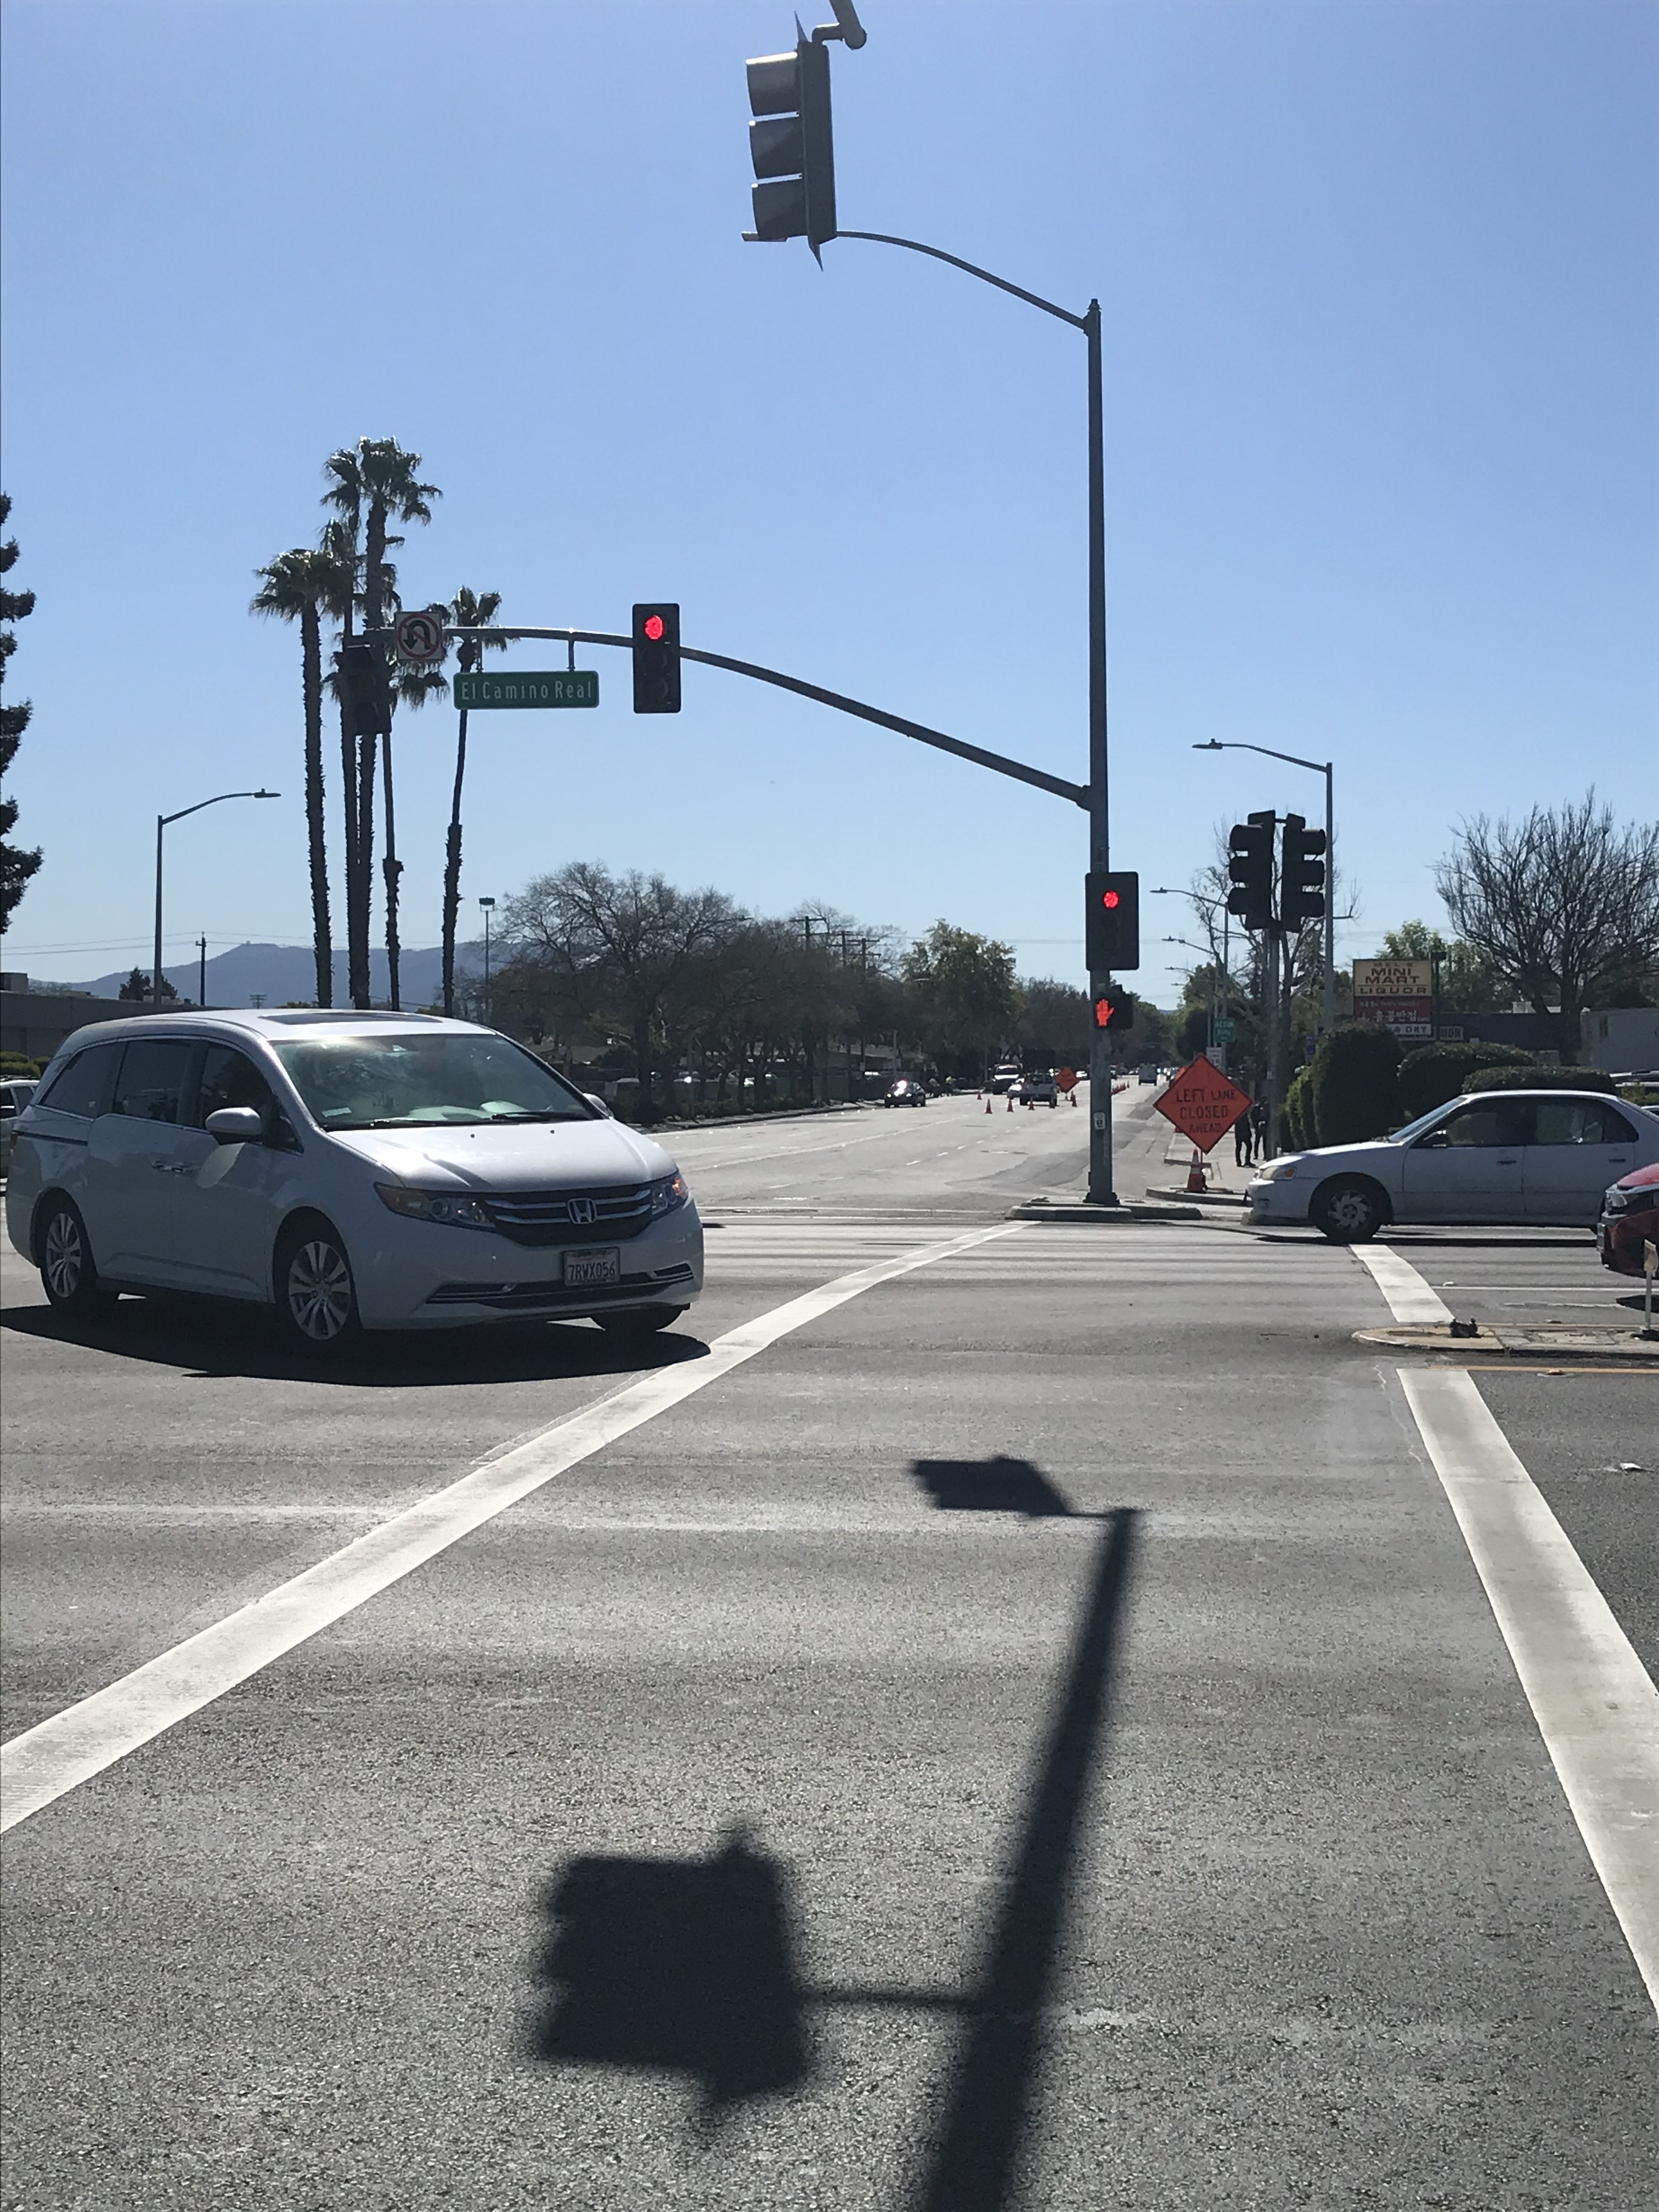red_light: (1091, 873, 1140, 970), (638, 606, 678, 705)
